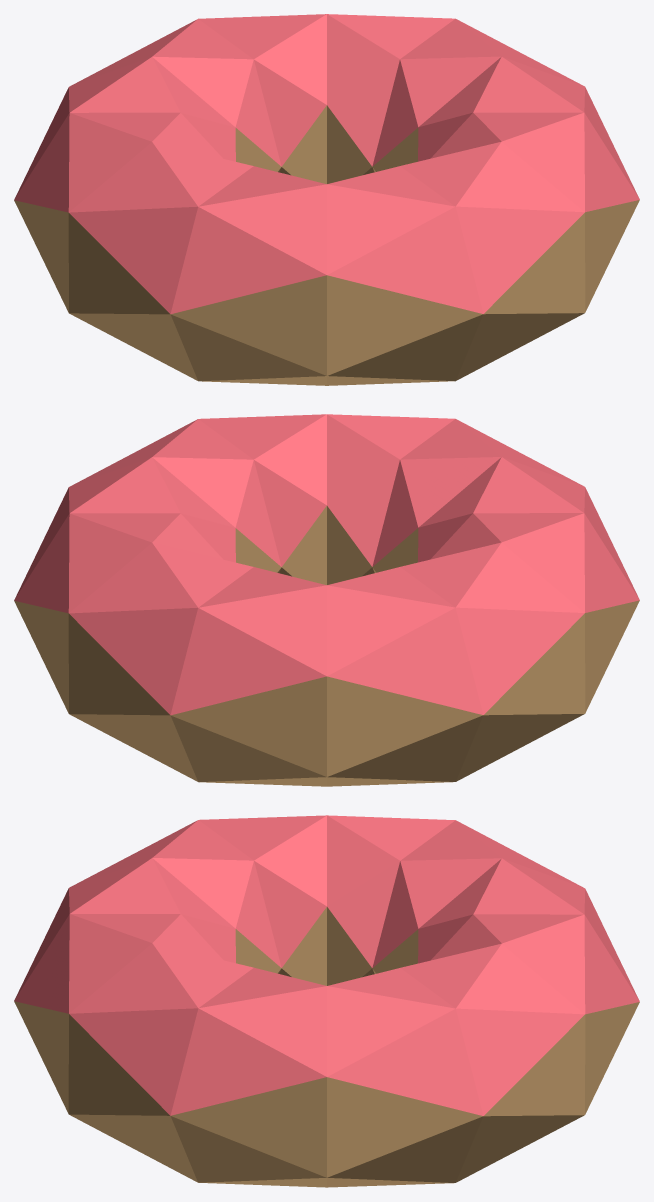
File: doughnut_pink.fbx
3 views of the same model, one above another, from view 1: azimuth 30°, elevation 25°; view 2: azimuth 150°, elevation 25°; view 3: azimuth 270°, elevation 25° (orthographic).
Visible parts, largest first — view 1: dougnut_pink; view 2: dougnut_pink; view 3: dougnut_pink.
Boxes of the visible parts, x1=… form: dougnut_pink: x1=14, y1=14, x2=639, y2=385; dougnut_pink: x1=14, y1=414, x2=639, y2=786; dougnut_pink: x1=14, y1=815, x2=639, y2=1187.
Size of the model in its own units: 8.94 by 3.34 by 9.39.
